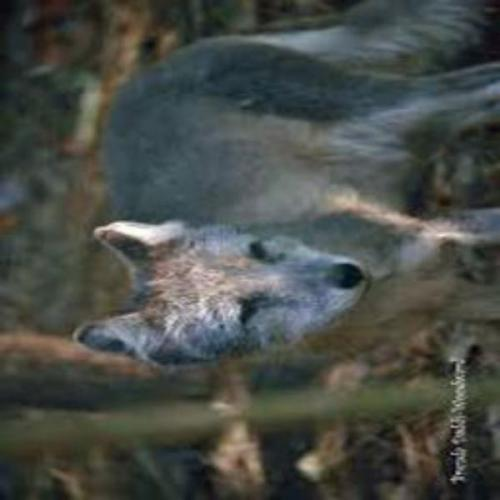arctic_fox-endangered: (71, 0, 500, 368)
